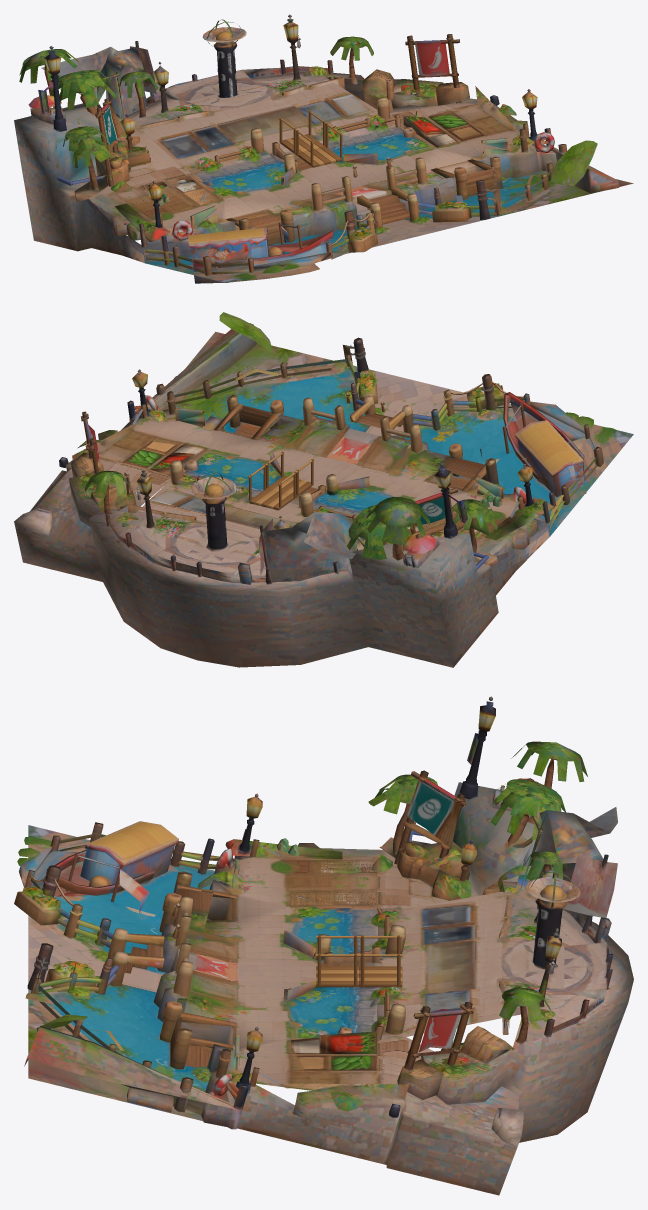
Rendered from kitchen_city.glb.
3 renders of one model, top to bottom at view 1: azimuth 30°, elevation 25°; view 2: azimuth 150°, elevation 25°; view 3: azimuth 270°, elevation 25°, orthographic. The views are drawn at different scales.
Parts seen in each view (by area): view 1: land, boat_0, tree_0, bridge_1, tree_1, bridge_0, tree_2, tree_3; view 2: land, boat_0, tree_1, tree_0, bridge_0, tree_3, tree_2, bridge_1; view 3: land, boat_0, tree_1, tree_3, tree_0, bridge_0, bridge_1, tree_2.
Part boxes in pixels (box(x1,y1,x2,y2)): land: box(14, 14, 633, 282); boat_0: box(145, 222, 348, 283); tree_0: box(63, 126, 113, 190); bridge_1: box(295, 122, 343, 167); tree_1: box(19, 49, 78, 111); bridge_0: box(278, 110, 325, 154); tree_2: box(330, 36, 373, 84); tree_3: box(51, 70, 111, 98); land: box(14, 312, 633, 667); boat_0: box(480, 392, 615, 531); tree_1: box(366, 497, 429, 560); tree_0: box(451, 499, 497, 552); bridge_0: box(248, 464, 296, 510); tree_3: box(348, 504, 412, 551); tree_2: box(84, 470, 129, 513); bridge_1: box(266, 451, 314, 497); land: box(14, 696, 633, 1195); boat_0: box(24, 821, 234, 912); tree_1: box(511, 741, 587, 824); tree_3: box(492, 779, 565, 824); tree_0: box(368, 774, 437, 854); bridge_0: box(359, 935, 402, 987); bridge_1: box(316, 935, 358, 987); tree_2: box(499, 987, 550, 1044).
Bounding box in the file's own units: 14.51 × 6.91 × 14.37.
Materials: 3 (1 with a texture image).
